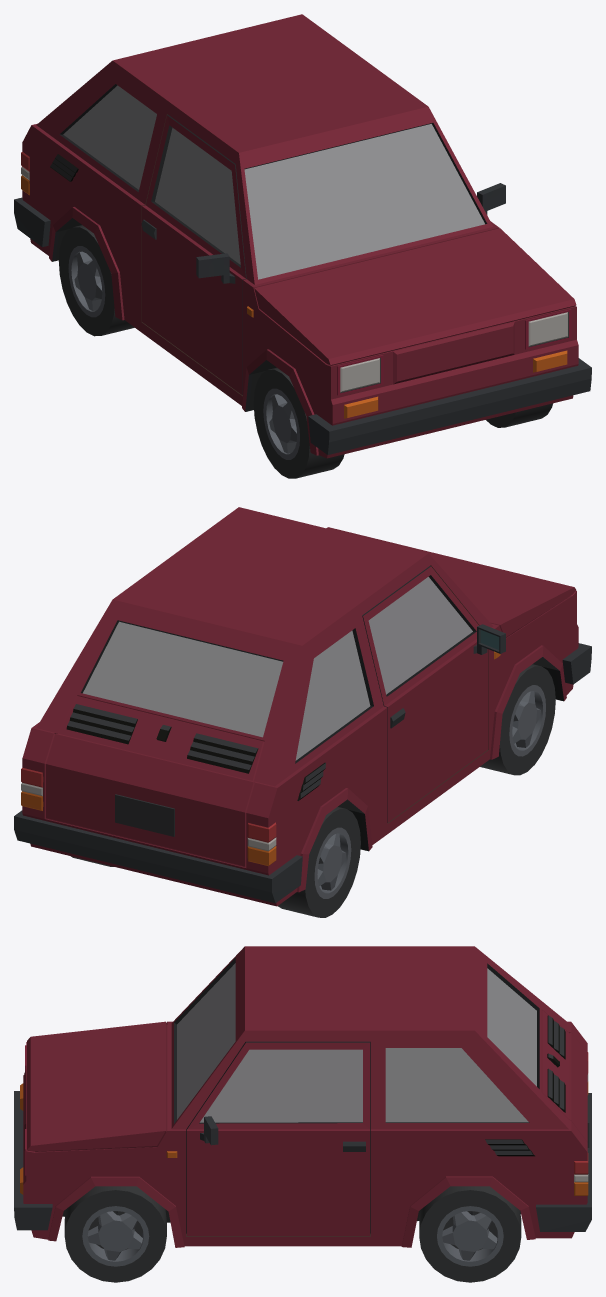
The model's file is hatchback.glb.
3 views of the same model, one above another, from view 1: azimuth 30°, elevation 25°; view 2: azimuth 150°, elevation 25°; view 3: azimuth 270°, elevation 25° (orthographic). The views are drawn at different scales.
Visible parts, largest first — view 1: MICRO_CAR, WINDOWS.003, DOOR L.007, GLASS.002, WHEEL_R1.001, WHEEL_R2.001, WHEEL_L1.001, DOOR R.008; view 2: MICRO_CAR, WINDOWS.003, DOOR L.007, GLASS.002, WHEEL_R2.001, WHEEL_R1.001; view 3: MICRO_CAR, DOOR R.008, WINDOWS.003, GLASS.001, WHEEL_L1.001, WHEEL_L2.001.
Part boxes in pixels (box(x1,y1,x2,y2)): MICRO_CAR: box(14, 14, 591, 458); WINDOWS.003: box(63, 85, 484, 279); DOOR L.007: box(141, 115, 246, 395); GLASS.002: box(155, 127, 240, 264); WHEEL_R1.001: box(253, 367, 344, 478); WHEEL_R2.001: box(58, 225, 134, 336); WHEEL_L1.001: box(486, 403, 552, 427); DOOR R.008: box(477, 183, 505, 214); MICRO_CAR: box(14, 507, 591, 906); WINDOWS.003: box(83, 621, 370, 760); DOOR L.007: box(362, 566, 505, 822); GLASS.002: box(368, 577, 472, 694); WHEEL_R2.001: box(278, 806, 360, 917); WHEEL_R1.001: box(480, 664, 555, 775); MICRO_CAR: box(14, 946, 591, 1247); DOOR R.008: box(186, 1041, 370, 1236); WINDOWS.003: box(177, 963, 536, 1122); GLASS.001: box(200, 1049, 362, 1122); WHEEL_L1.001: box(64, 1186, 166, 1282); WHEEL_L2.001: box(419, 1186, 521, 1282).
Bounding box in the file's own units: 1.69 × 1.38 × 3.02.
2 materials, 2 textured.
